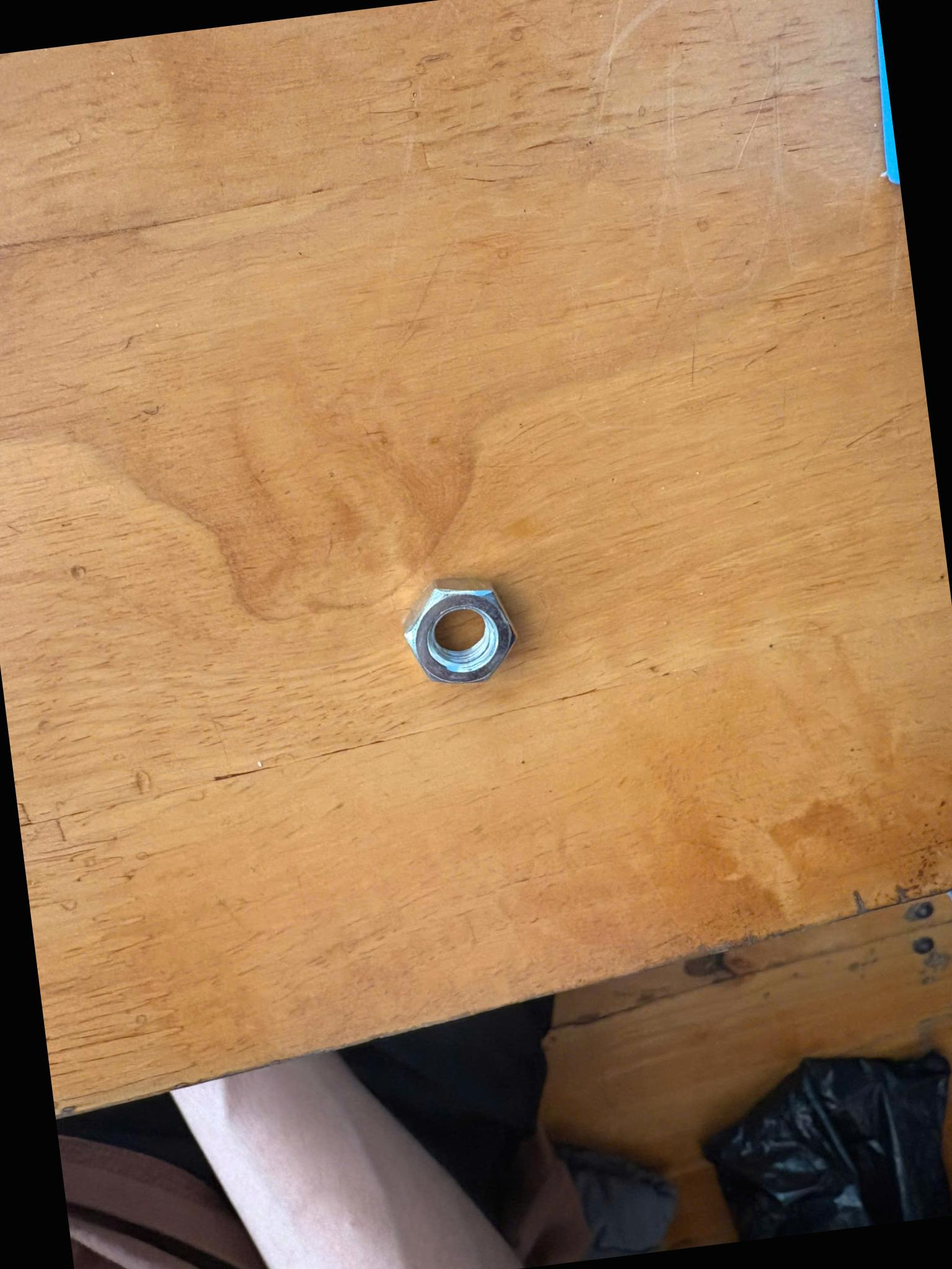nut: (377, 563, 530, 725)
